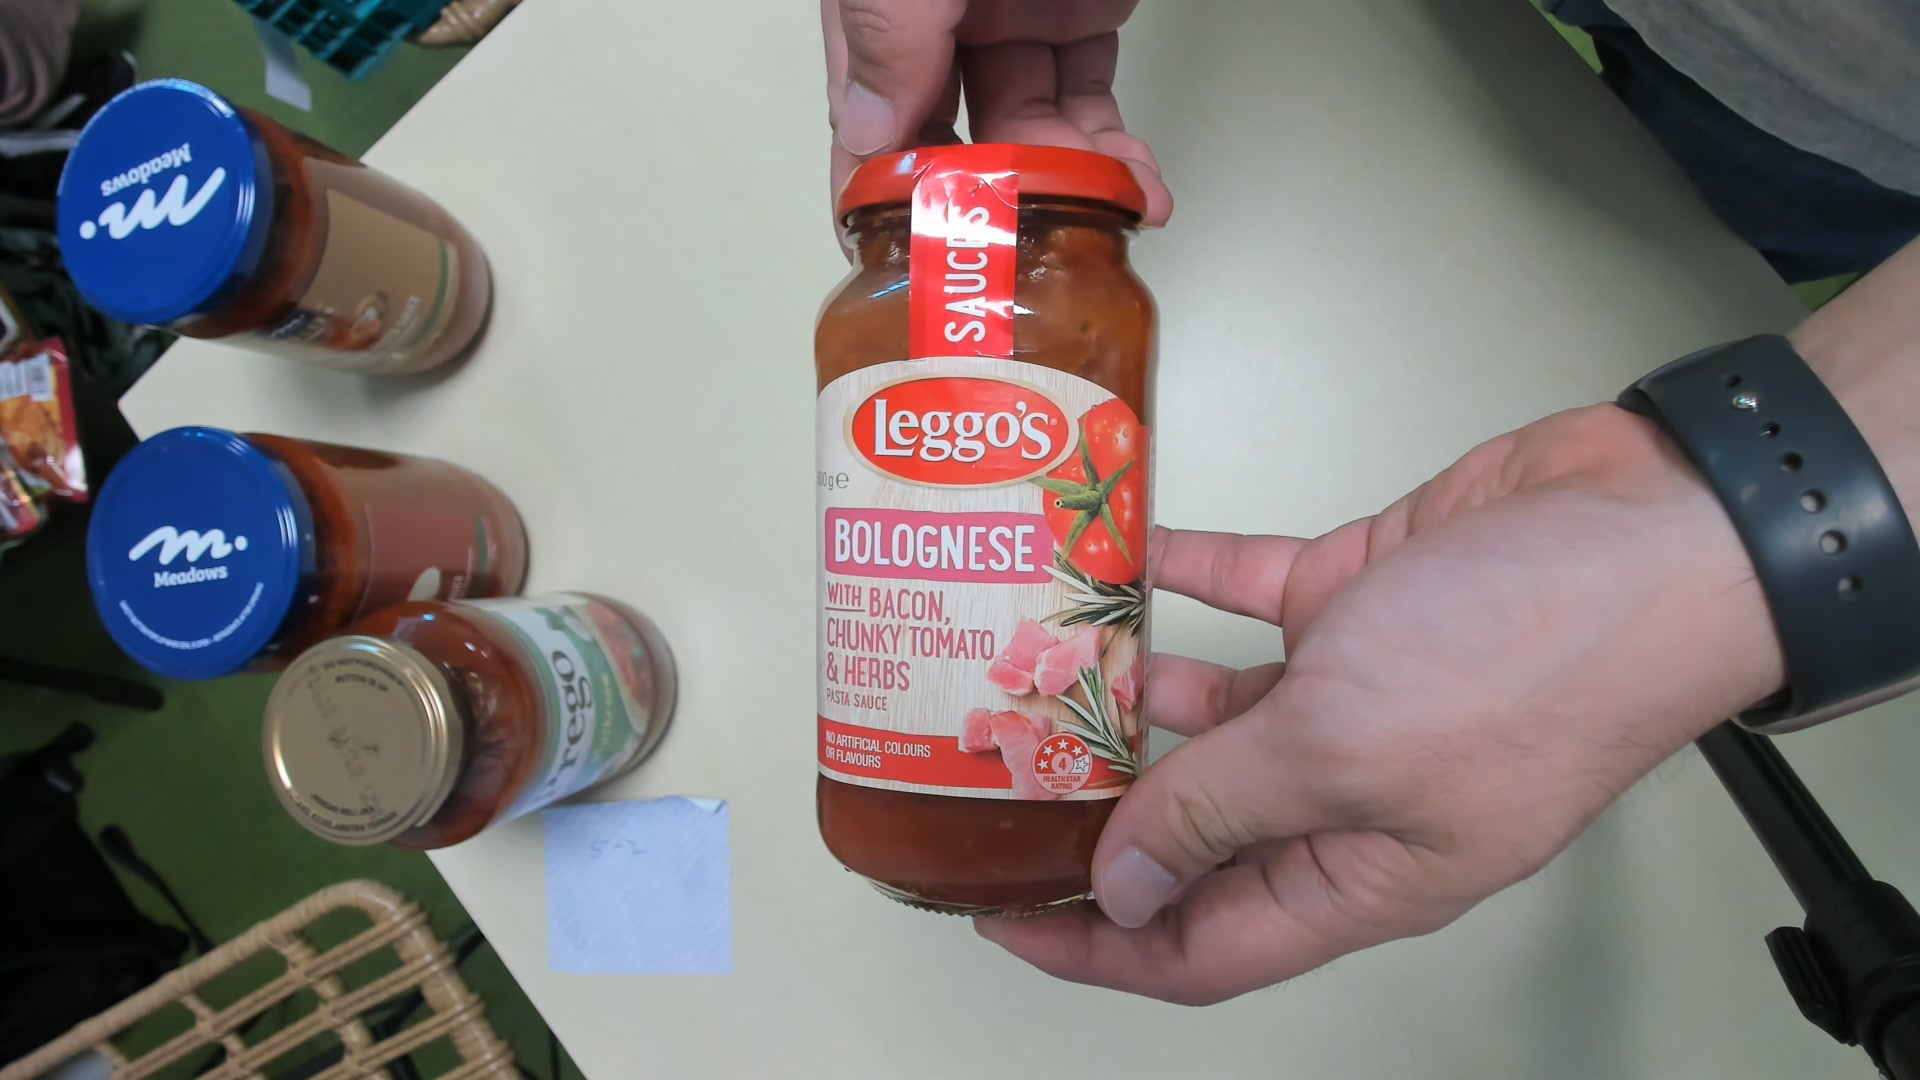PastaSauce_500-599g_Halal_NonHealthy: (810, 140, 1150, 909)
